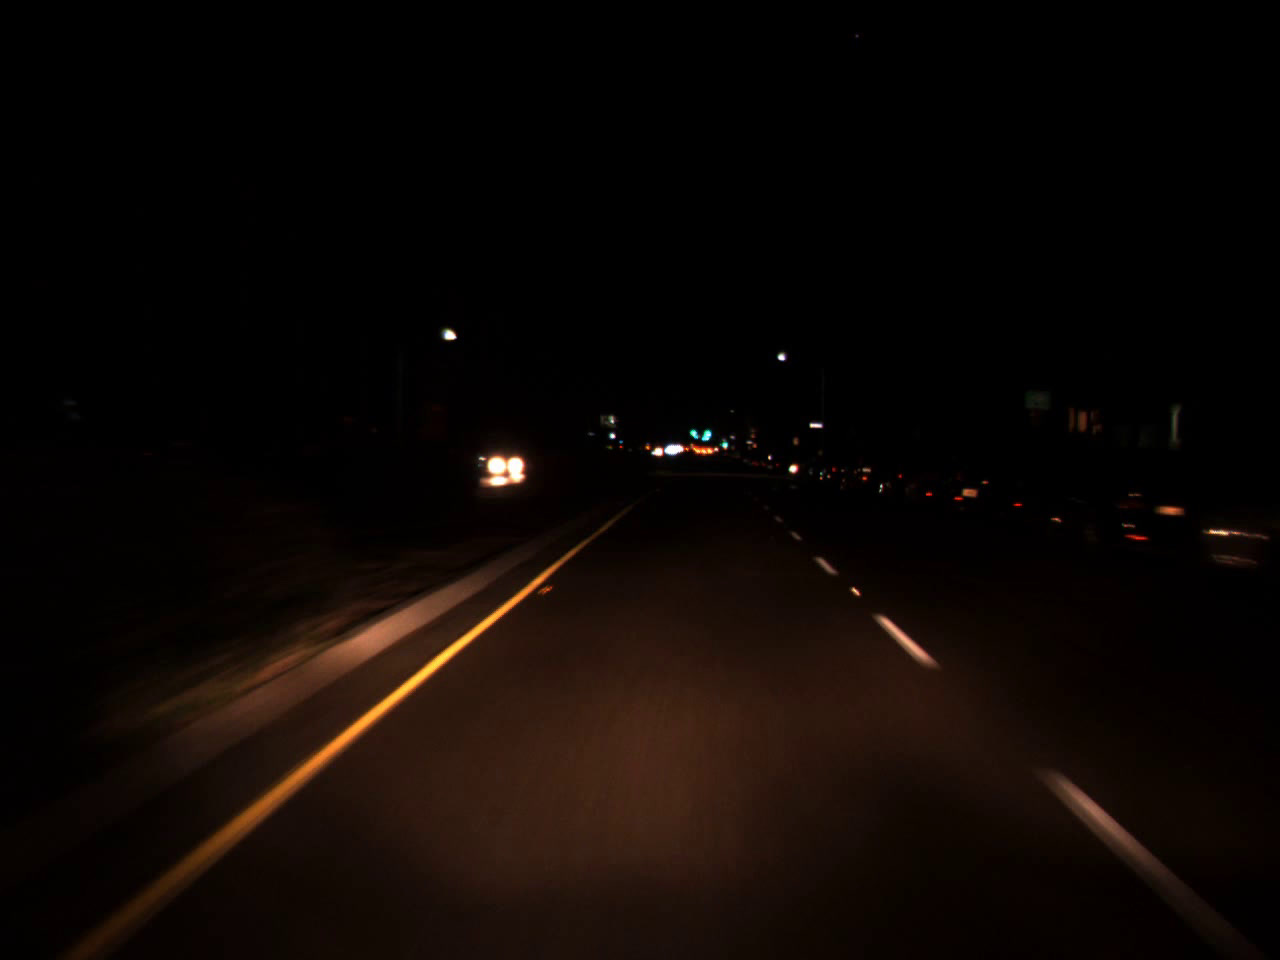go: (702, 415, 712, 442), (687, 421, 697, 439), (721, 437, 728, 449)
